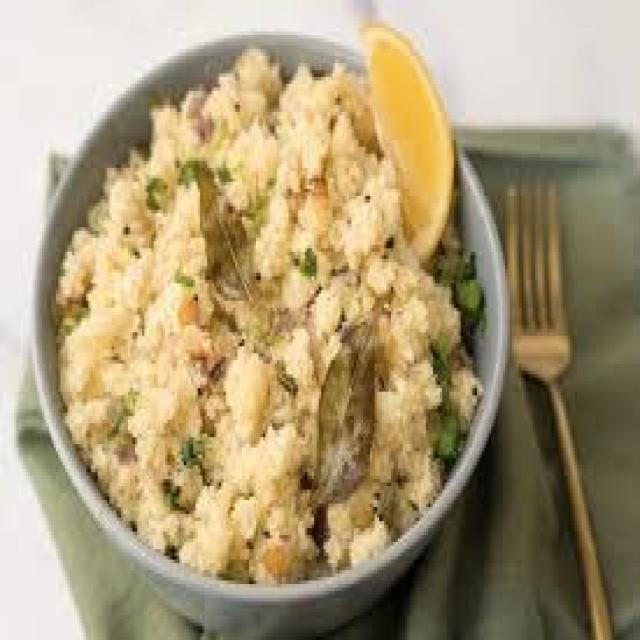Wet Waste: (61, 43, 492, 597)
